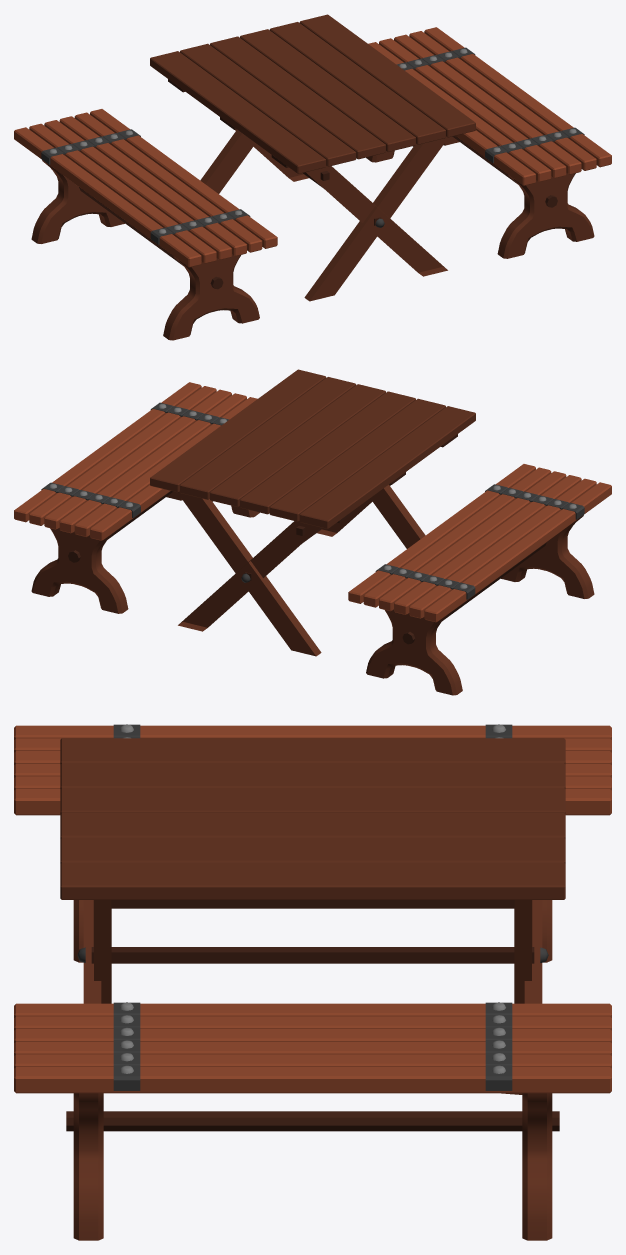
Rendered from Bench_TS.fbx.
3 views of the same model, one above another, from view 1: azimuth 30°, elevation 25°; view 2: azimuth 150°, elevation 25°; view 3: azimuth 270°, elevation 25° (orthographic). The views are drawn at different scales.
Parts seen in each view (by area): view 1: table, boards .001, boards, table_legs, bench legs, bench legs .001, strip, strip.001, crossbar.001, nail_head; view 2: table, boards .001, boards, table_legs, bench legs, bench legs .001, strip, strip.001, crossbar.001, nail_head; view 3: table, boards, boards .001, crossbar_table, crossbar, bench legs .001, table_legs, strip.001, bench legs, nail_head.001, board_table.
Part boxes in pixels (bbox=[...]): table: bbox=[150, 14, 475, 173]; boards .001: bbox=[14, 109, 277, 267]; boards: bbox=[368, 27, 611, 185]; table_legs: bbox=[200, 129, 448, 301]; bench legs: bbox=[31, 160, 259, 340]; bench legs .001: bbox=[366, 136, 594, 258]; strip: bbox=[41, 129, 250, 244]; strip.001: bbox=[396, 47, 584, 162]; crossbar.001: bbox=[79, 187, 223, 289]; nail_head: bbox=[49, 130, 242, 233]; table: bbox=[150, 369, 475, 528]; boards .001: bbox=[348, 464, 611, 622]; boards: bbox=[14, 382, 257, 540]; table_legs: bbox=[177, 484, 425, 656]; bench legs: bbox=[366, 515, 594, 695]; bench legs .001: bbox=[31, 491, 259, 613]; strip: bbox=[375, 484, 584, 599]; strip.001: bbox=[41, 402, 229, 517]; crossbar.001: bbox=[402, 542, 546, 644]; nail_head: bbox=[383, 485, 576, 588]; table: bbox=[60, 738, 565, 899]; boards: bbox=[14, 1003, 611, 1093]; boards .001: bbox=[14, 725, 611, 815]; crossbar_table: bbox=[91, 900, 534, 963]; crossbar: bbox=[66, 1111, 559, 1131]; bench legs .001: bbox=[73, 1093, 552, 1240]; table_legs: bbox=[83, 900, 542, 1003]; strip.001: bbox=[113, 1002, 512, 1090]; bench legs: bbox=[73, 900, 552, 962]; nail_head.001: bbox=[120, 1002, 505, 1073]; board_table: bbox=[111, 900, 514, 906].
Size of what is drawn, in the model's own units: 280 by 92.95 by 200.
